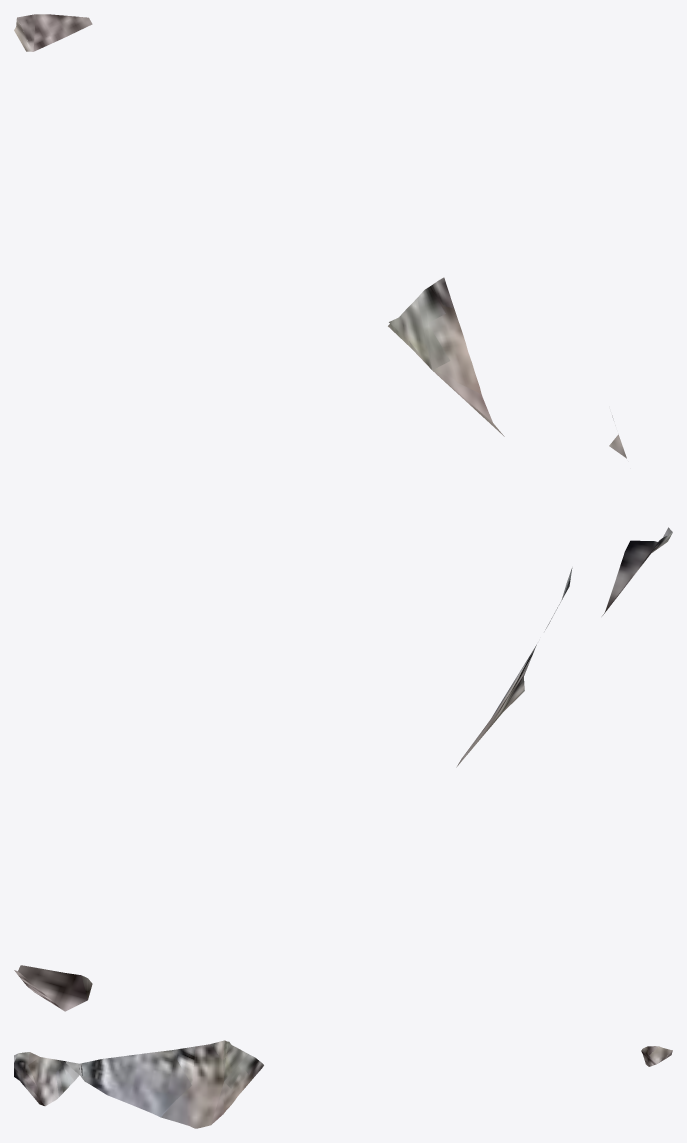
The model's file is Tile_+004_+006_L20_00030.glb.
3 renders of one model, top to bottom at view 1: azimuth 30°, elevation 25°; view 2: azimuth 150°, elevation 25°; view 3: azimuth 270°, elevation 25°, orthographic. The views are drawn at different scales.
Visible parts, largest first — view 1: rtc; view 2: rtc; view 3: rtc.
Part boxes in pixels (x1=…): rtc: x1=14, y1=14, x2=626, y2=458; rtc: x1=14, y1=527, x2=672, y2=1011; rtc: x1=14, y1=1040, x2=672, y2=1128.
Bounding box in the file's own units: 2.23 × 2.65 × 24.9.
Materials: 1 (1 with a texture image).
